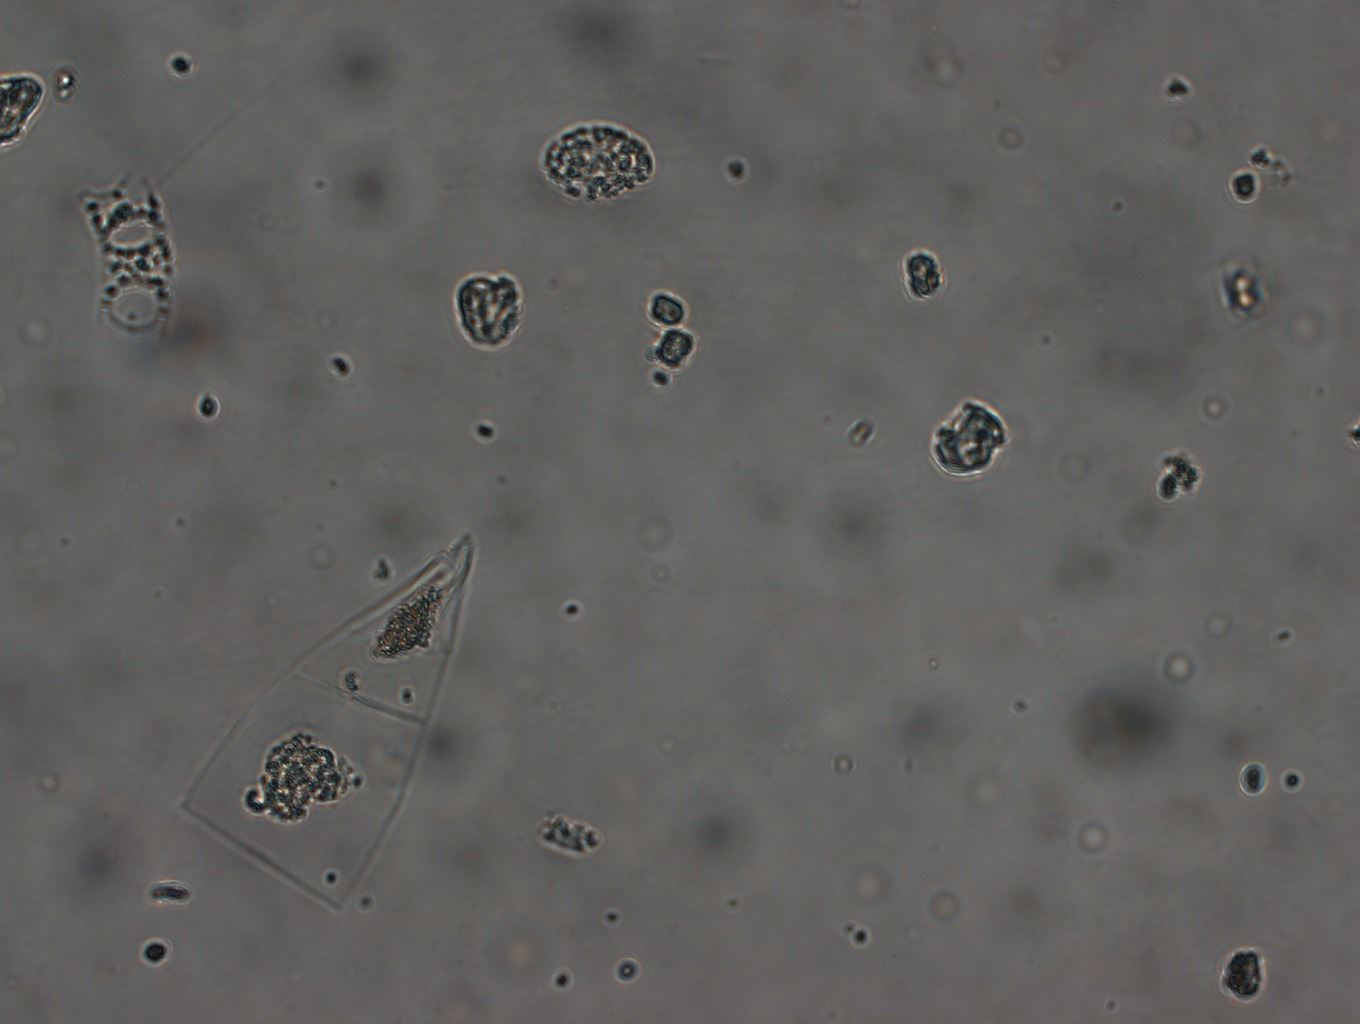eucampia: (78, 172, 177, 337)
helicotheca: (181, 532, 474, 909)
